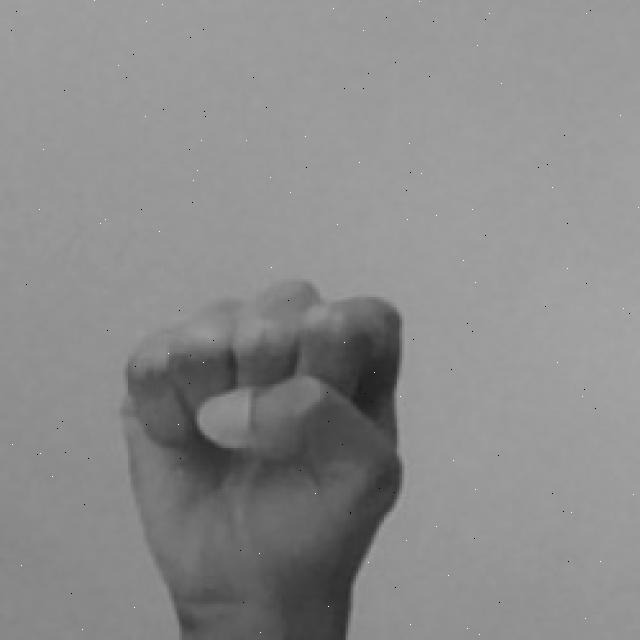S: (114, 279, 424, 640)
